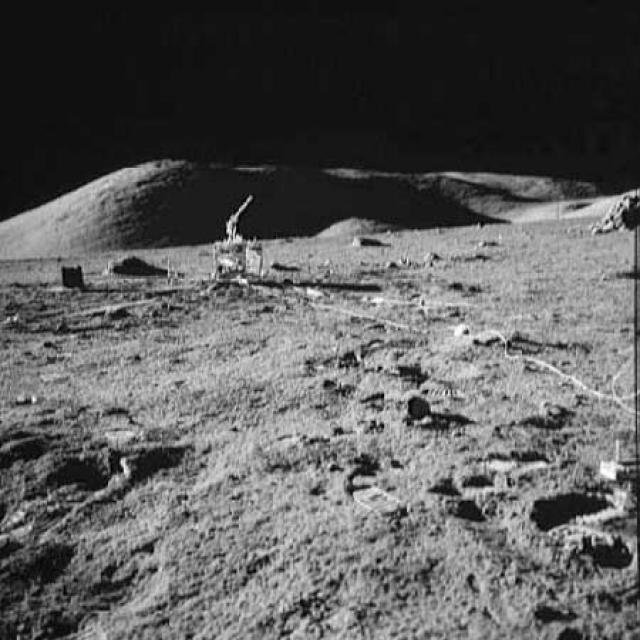artifact: (198, 190, 278, 285), (590, 170, 639, 268)
rock: (400, 384, 458, 430), (105, 252, 170, 282), (56, 257, 88, 290), (344, 230, 390, 252)
